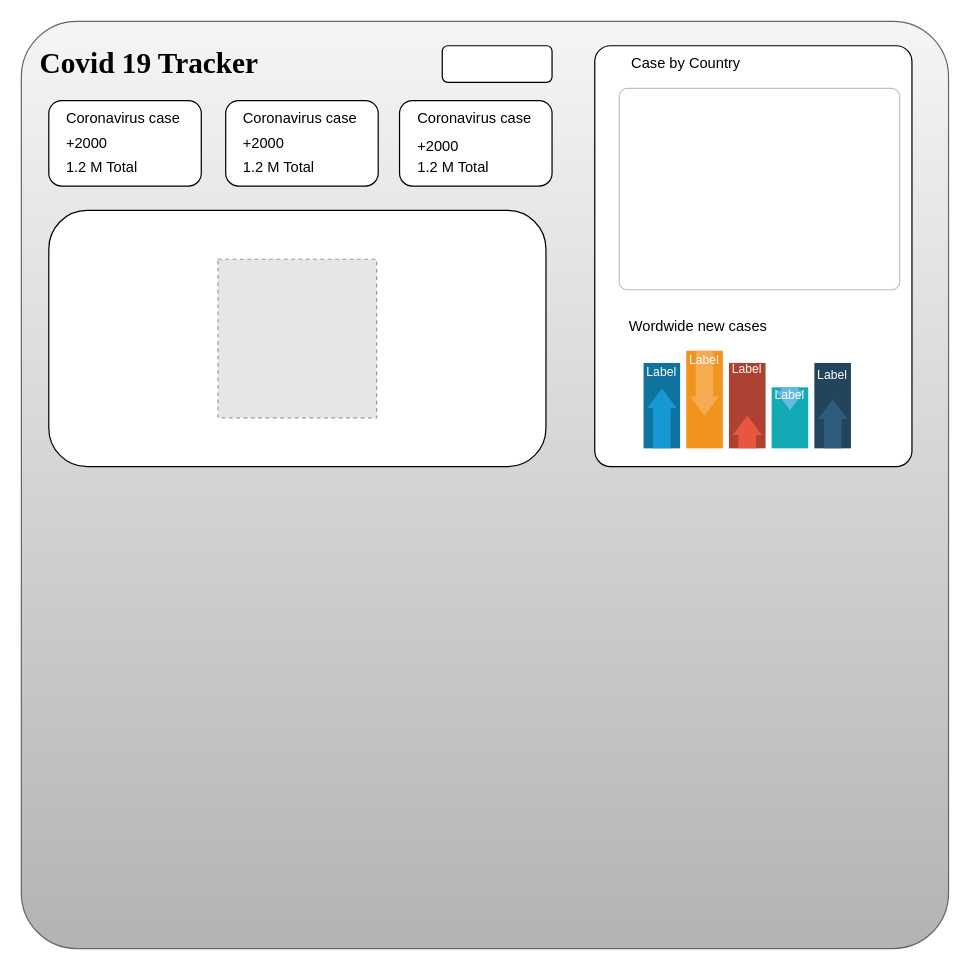
The diagram is 970 pixels wide and 970 high, and some of its shapes have lost their labels. Grey dashed boxes stand in for pictures. The centre of each missing label's shape, as x and y in pixels:
"Value 1 Value 2 Value 3 Value 4 Value 5 Value 6 Value 7 Value 8 Value 9" goes at point (759, 188).
"Word wide" goes at point (496, 63).
